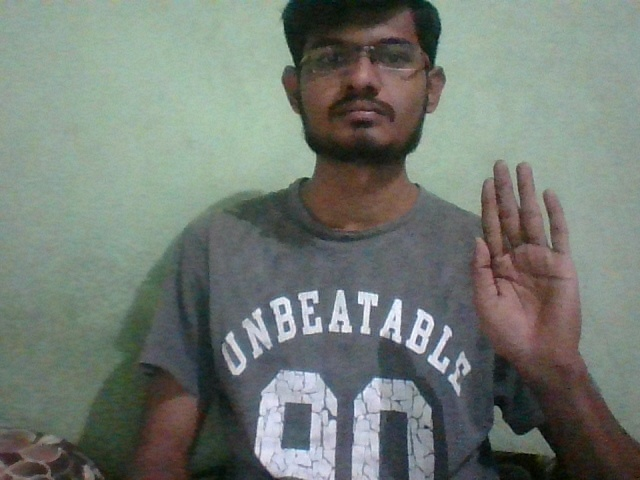goodby: (457, 158, 611, 387)
